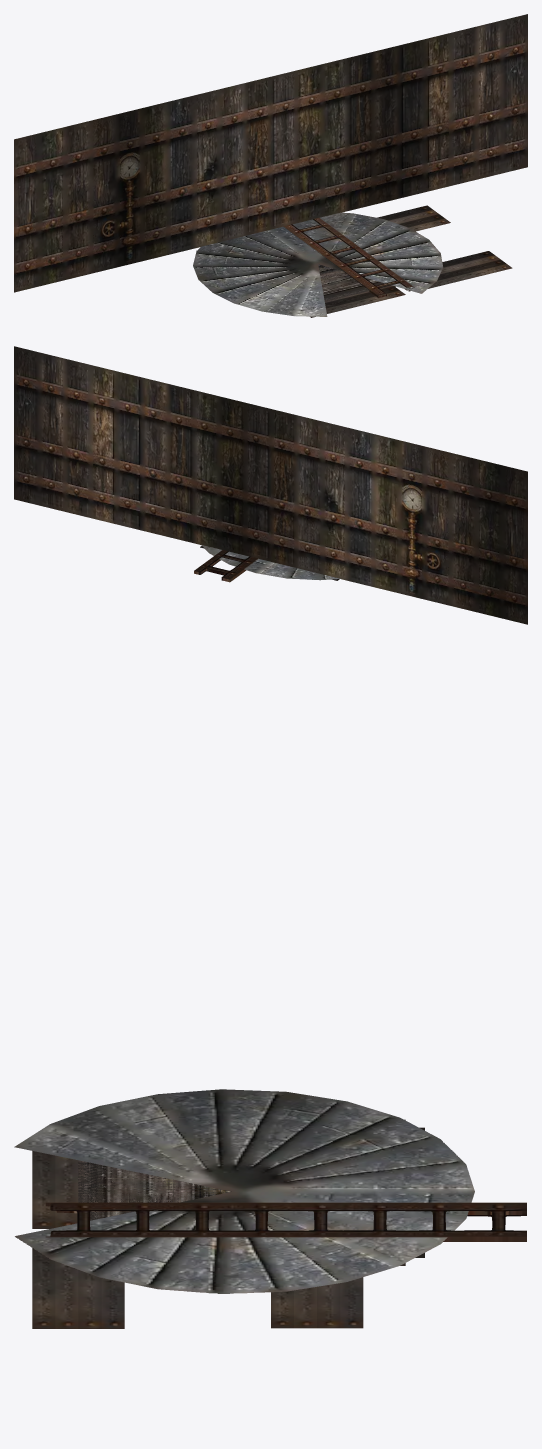
The model's file is water_tower_fold.glb.
3 views of the same model, one above another, from view 1: azimuth 30°, elevation 25°; view 2: azimuth 150°, elevation 25°; view 3: azimuth 270°, elevation 25° (orthographic). The views are drawn at different scales.
Parts seen in each view (by area): view 1: GEO-water_tower; view 2: GEO-water_tower; view 3: GEO-water_tower.
Boxes of the visible parts, <box> form: GEO-water_tower: <box>14,14,527,317</box>; GEO-water_tower: <box>14,346,527,624</box>; GEO-water_tower: <box>14,1089,526,1328</box>.
Size of the model in its own units: 5.97 by 1.72 by 2.67.
Materials: 1 (1 with a texture image).
